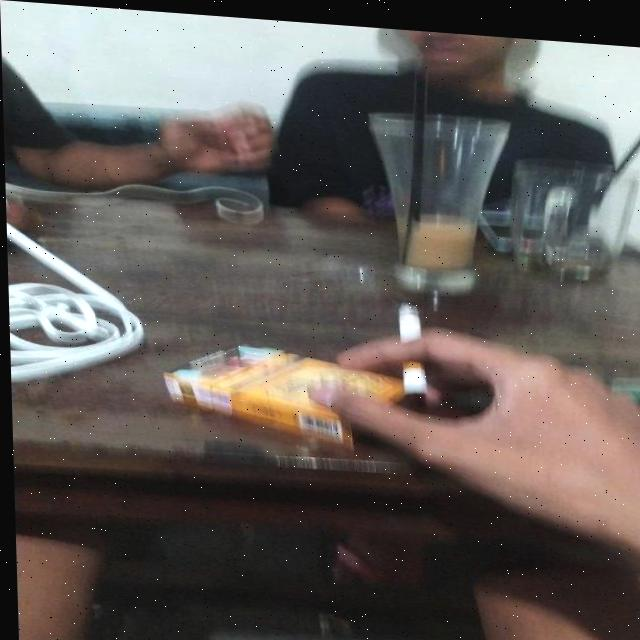cigarette: (394, 297, 427, 394)
